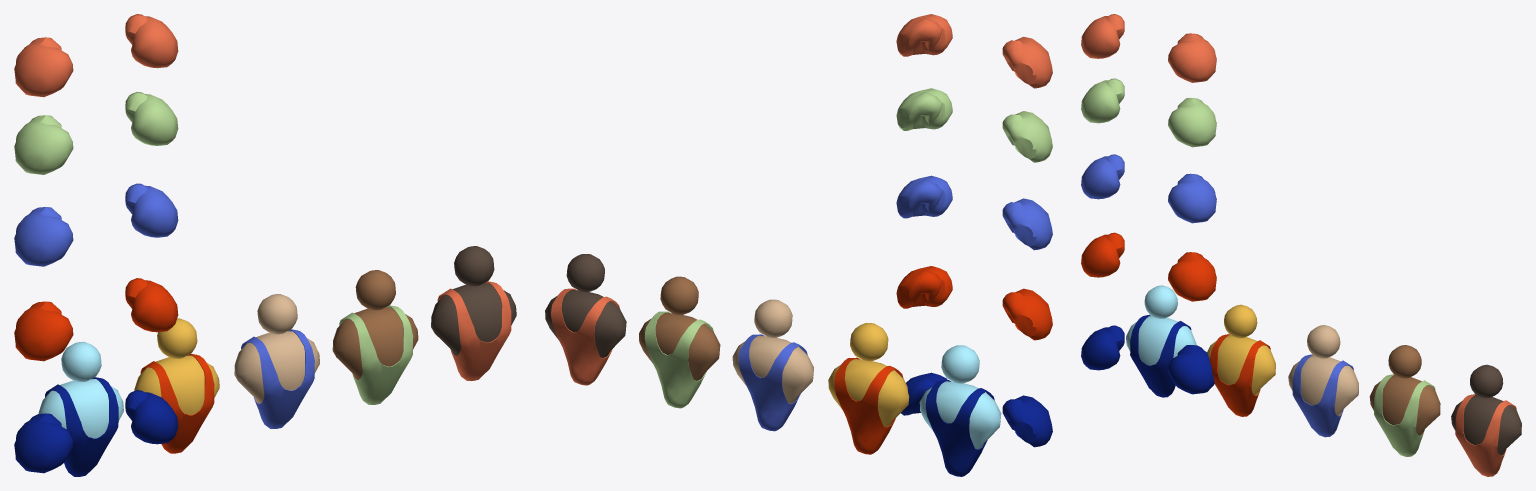
The model's file is Characters.fbx.
3 renders of one model, left to right at view 1: azimuth 30°, elevation 25°; view 2: azimuth 150°, elevation 25°; view 3: azimuth 330°, elevation 25°, orthographic. The views are drawn at different scales.
Visible parts, largest first — view 1: Body04, Body05, Body03, Cloth05, Cloth04, Cloth03, R_Punch.002, R_Punch.003, R_Punch.001, R_Punch.004, R_Punch, Body01 (+13 smaller); view 2: Cloth03, Cloth04, Cloth01, Cloth02, Cloth05, Body04, Body01, Body05, Body03, Body02, L_Punch.003, L_Punch.002 (+13 smaller); view 3: Body05, Body04, Body03, Body02, Cloth05, Cloth04, Cloth03, Cloth02, L_Punch.004, L_Punch.003, L_Punch.001, L_Punch.002 (+13 smaller).
Boxes of the visible parts, <box> form: Body04: <box>332,307,418,379</box>; Body05: <box>431,283,516,355</box>; Body03: <box>234,331,319,403</box>; Cloth05: <box>437,281,511,380</box>; Cloth04: <box>339,305,413,404</box>; Cloth03: <box>241,329,314,428</box>; R_Punch.002: <box>14,207,73,266</box>; R_Punch.003: <box>14,115,73,174</box>; R_Punch.001: <box>14,301,73,361</box>; R_Punch.004: <box>14,37,73,97</box>; R_Punch: <box>14,413,73,473</box>; Body01: <box>38,379,123,438</box>; Cloth03: <box>738,334,807,431</box>; Cloth04: <box>644,311,713,408</box>; Cloth01: <box>925,380,994,476</box>; Cloth02: <box>834,357,903,454</box>; Cloth05: <box>551,288,619,385</box>; Body04: <box>639,313,720,380</box>; Body01: <box>919,381,1001,449</box>; Body05: <box>545,290,626,357</box>; Body03: <box>732,335,813,403</box>; Body02: <box>828,359,909,427</box>; L_Punch.003: <box>896,88,952,130</box>; L_Punch.002: <box>896,175,952,218</box>; Body05: <box>1451,395,1521,455</box>; Body04: <box>1369,375,1440,435</box>; Body03: <box>1288,355,1358,415</box>; Body02: <box>1207,335,1275,395</box>; Cloth05: <box>1455,394,1516,476</box>; Cloth04: <box>1374,374,1435,456</box>; Cloth03: <box>1292,354,1353,437</box>; Cloth02: <box>1209,334,1270,416</box>; L_Punch.004: <box>1168,33,1216,82</box>; L_Punch.003: <box>1168,97,1216,147</box>; L_Punch.001: <box>1168,252,1216,301</box>; L_Punch.002: <box>1168,173,1216,223</box>.
Size of the model in its own units: 19.36 by 16.56 by 2.82.
